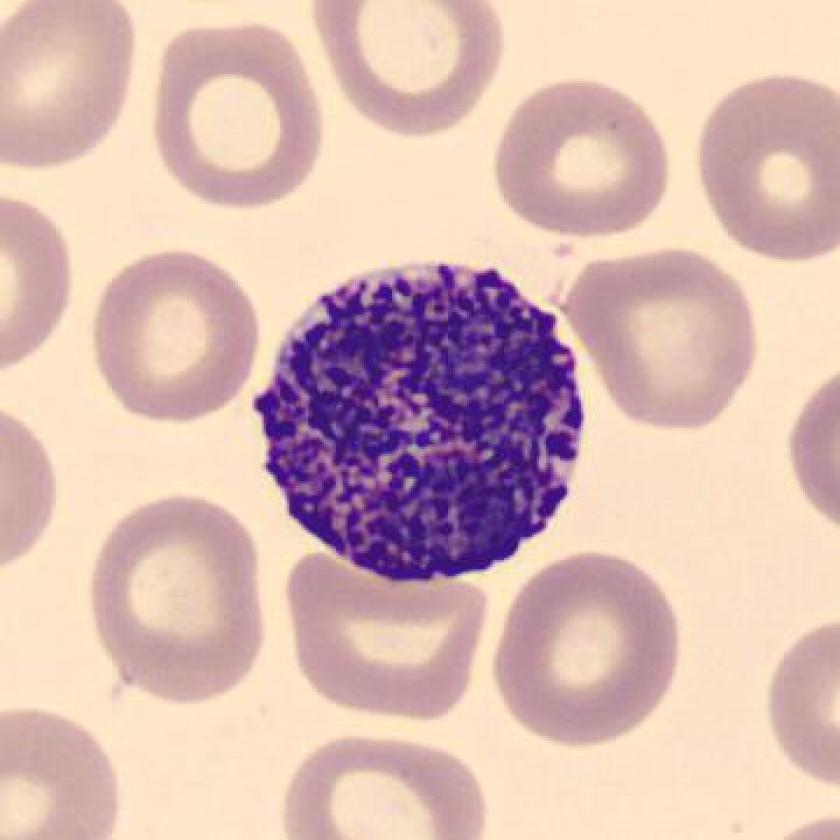basophil: (258, 253, 598, 582)
